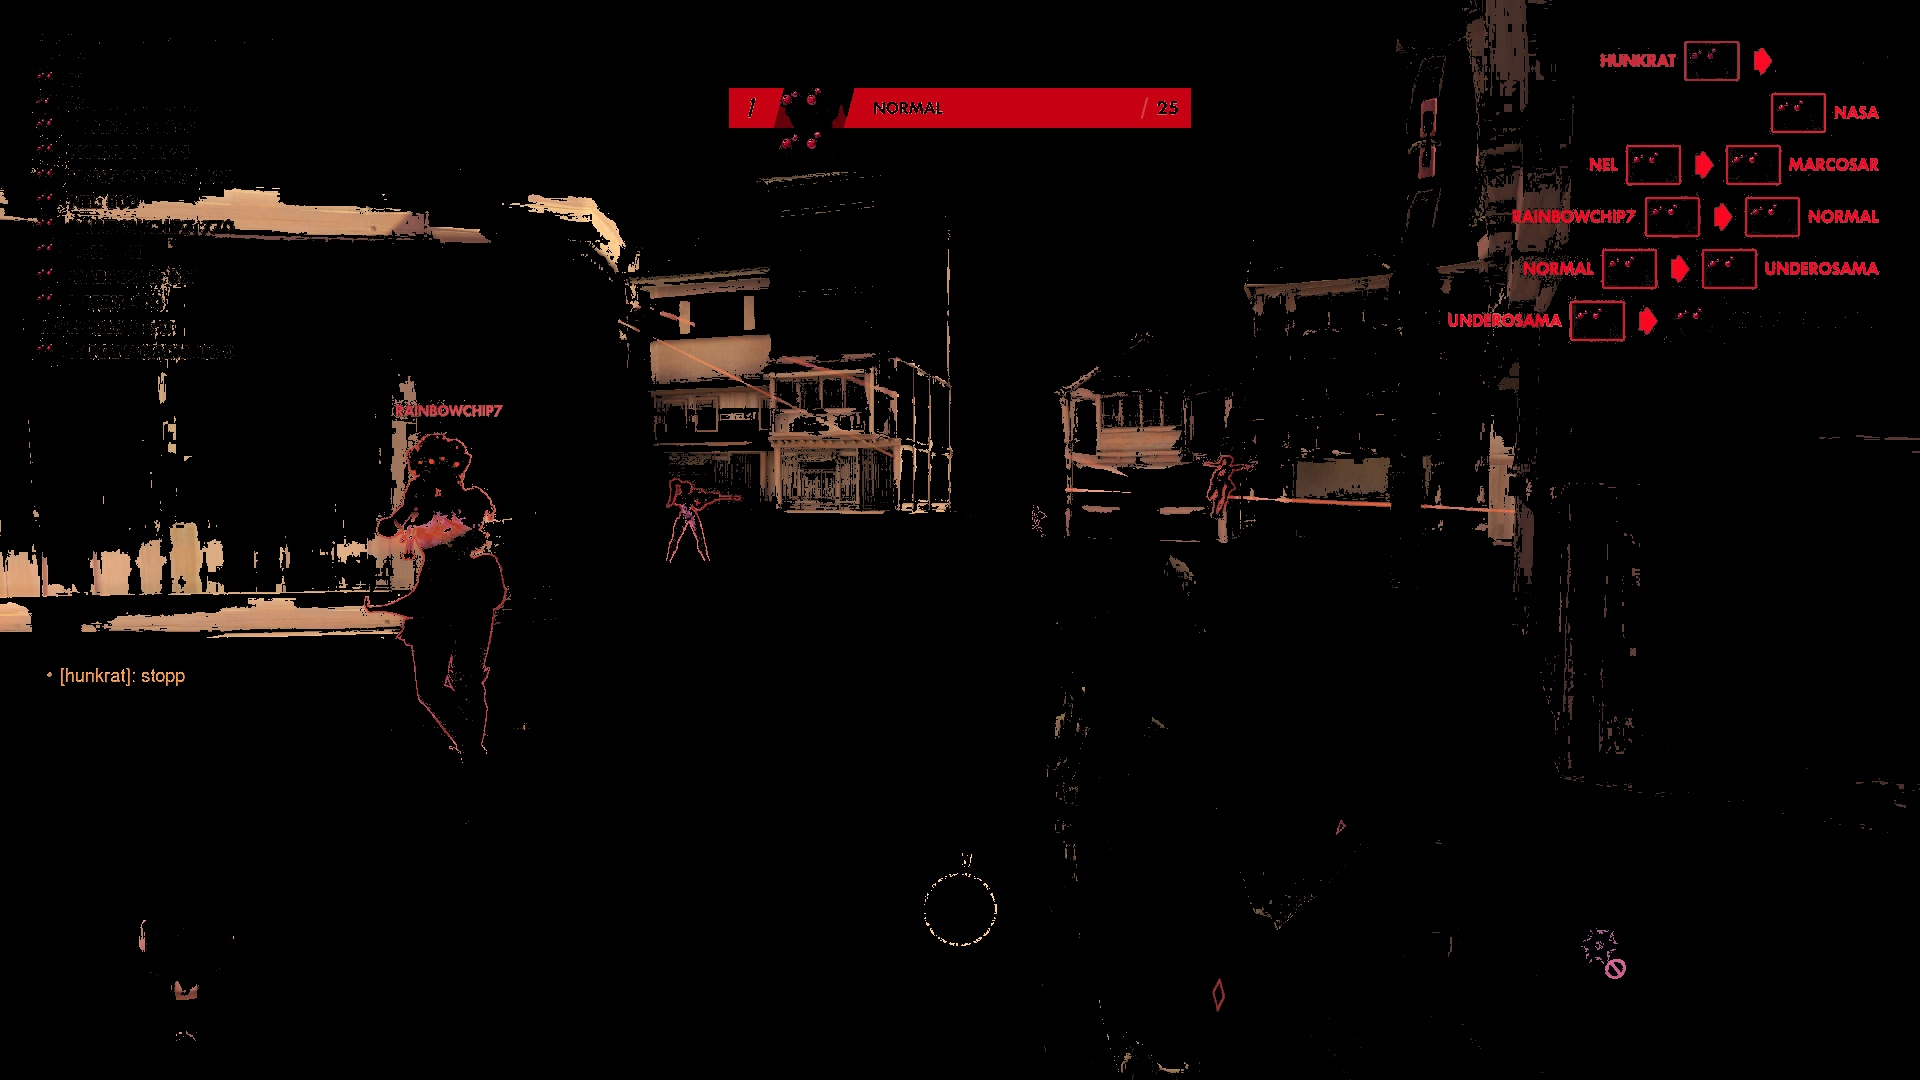widowmaker: (356, 429, 564, 831), (659, 473, 742, 580), (1203, 454, 1254, 520), (1025, 501, 1051, 543)
